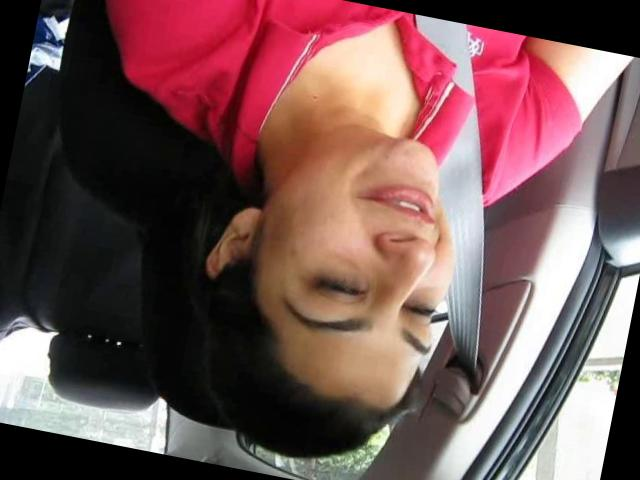eye_closed: (290, 261, 372, 310), (400, 294, 440, 328)
face: (255, 114, 482, 379)
